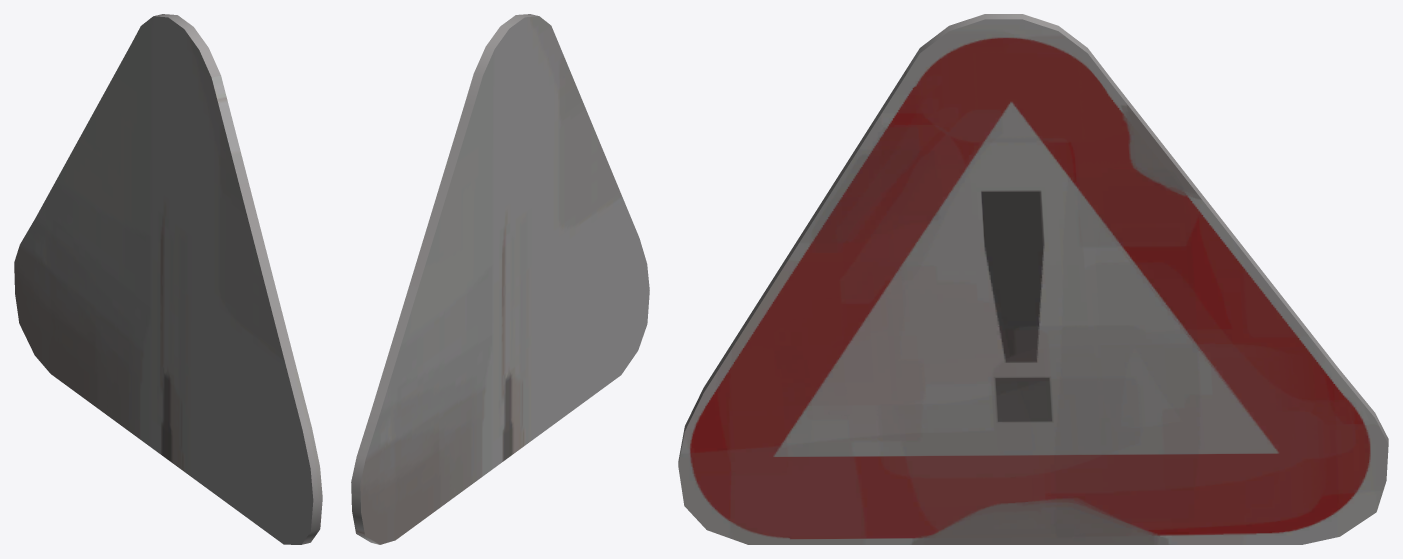
Rendered from street_sign002.glb.
The picture shows the model from 3 angles, left to right: view 1: azimuth 30°, elevation 25°; view 2: azimuth 150°, elevation 25°; view 3: azimuth 270°, elevation 25°; orthographic projection. The views are drawn at different scales.
Visible parts, largest first — view 1: street_sign002; view 2: street_sign002; view 3: street_sign002.
Boxes of the visible parts, x1=… form: street_sign002: x1=14, y1=14, x2=322, y2=544; street_sign002: x1=351, y1=14, x2=649, y2=544; street_sign002: x1=678, y1=14, x2=1388, y2=544.
Size of the model in its own units: 0.019 by 0.8496 by 1.04.
1 material, 1 textured.
